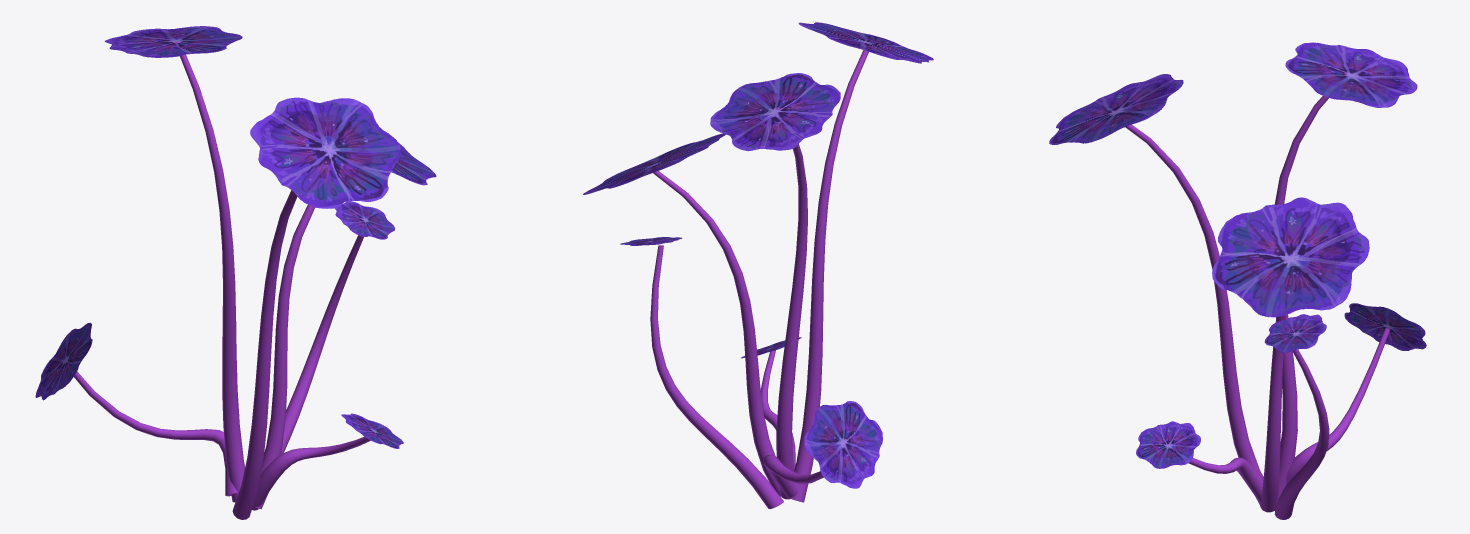
The model's file is plante_violette1.fbx.
3 renders of one model, left to right at view 1: azimuth 30°, elevation 25°; view 2: azimuth 150°, elevation 25°; view 3: azimuth 270°, elevation 25°, orthographic. The views are drawn at different scales.
Visible parts, largest first — view 1: feuille4.003, BezierCurve.001, BezierCurve, BezierCurve.002, feuille4.001, BezierCurve.003, feuille4, BezierCurve.004, BezierCurve.005, feuille4.005, feuille4.002, feuille4.004; view 2: feuille4.001, BezierCurve, feuille4, BezierCurve.001, BezierCurve.002, BezierCurve.003, feuille4.003, feuille4.004, BezierCurve.004, BezierCurve.005; view 3: feuille4.004, feuille4.001, feuille4.003, BezierCurve, BezierCurve.001, BezierCurve.002, feuille4.002, feuille4, BezierCurve.003, feuille4.005, BezierCurve.004, BezierCurve.005.
Part boxes in pixels (x1=…): feuille4.003: x1=250, y1=97, x2=401, y2=208; BezierCurve.001: x1=176, y1=41, x2=244, y2=502; BezierCurve: x1=232, y1=190, x2=297, y2=519; BezierCurve.002: x1=255, y1=204, x2=314, y2=509; feuille4.001: x1=104, y1=26, x2=242, y2=57; BezierCurve.003: x1=252, y1=235, x2=363, y2=510; feuille4: x1=35, y1=322, x2=92, y2=400; BezierCurve.004: x1=74, y1=371, x2=237, y2=496; BezierCurve.005: x1=252, y1=436, x2=370, y2=510; feuille4.005: x1=335, y1=201, x2=394, y2=239; feuille4.002: x1=341, y1=413, x2=403, y2=448; feuille4.004: x1=391, y1=142, x2=436, y2=185; feuille4.001: x1=710, y1=73, x2=840, y2=151; BezierCurve: x1=791, y1=50, x2=868, y2=502; feuille4: x1=804, y1=401, x2=882, y2=488; BezierCurve.001: x1=776, y1=107, x2=807, y2=499; BezierCurve.002: x1=653, y1=171, x2=780, y2=496; BezierCurve.003: x1=650, y1=245, x2=783, y2=508; feuille4.003: x1=798, y1=22, x2=933, y2=63; feuille4.004: x1=583, y1=133, x2=725, y2=194; BezierCurve.004: x1=763, y1=454, x2=823, y2=497; BezierCurve.005: x1=761, y1=350, x2=795, y2=491; feuille4.004: x1=1212, y1=197, x2=1369, y2=317; feuille4.001: x1=1285, y1=42, x2=1417, y2=107; feuille4.003: x1=1049, y1=74, x2=1183, y2=144; BezierCurve: x1=1125, y1=124, x2=1263, y2=505; BezierCurve.001: x1=1274, y1=72, x2=1346, y2=499; BezierCurve.002: x1=1260, y1=315, x2=1285, y2=512; feuille4.002: x1=1136, y1=421, x2=1200, y2=468; feuille4: x1=1344, y1=303, x2=1426, y2=350; BezierCurve.003: x1=1274, y1=349, x2=1329, y2=519; feuille4.005: x1=1264, y1=314, x2=1326, y2=352; BezierCurve.004: x1=1286, y1=327, x2=1390, y2=485; BezierCurve.005: x1=1188, y1=457, x2=1277, y2=503.
Size of the model in its own units: 140 by 171 by 151.
2 materials, 1 textured.
